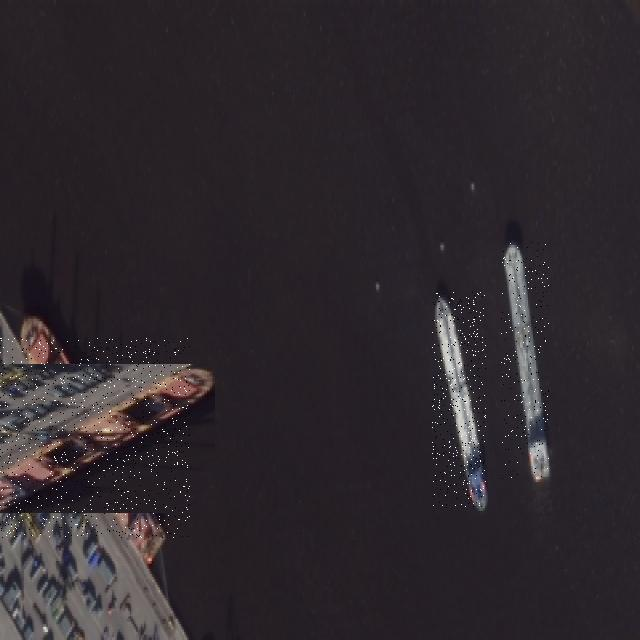boat: (0, 338, 190, 538), (432, 292, 486, 508), (501, 240, 549, 479)
